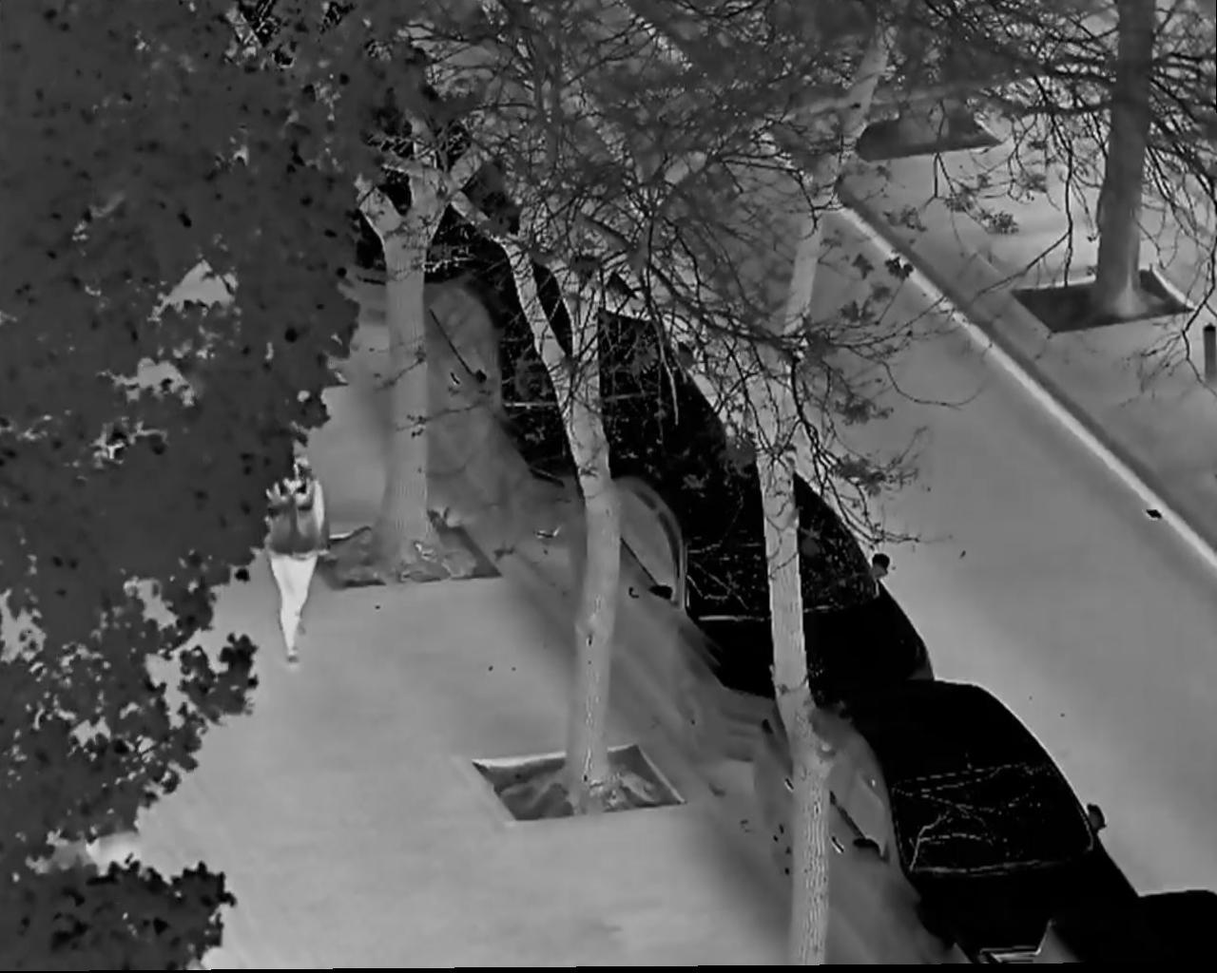person: (246, 446, 330, 666)
